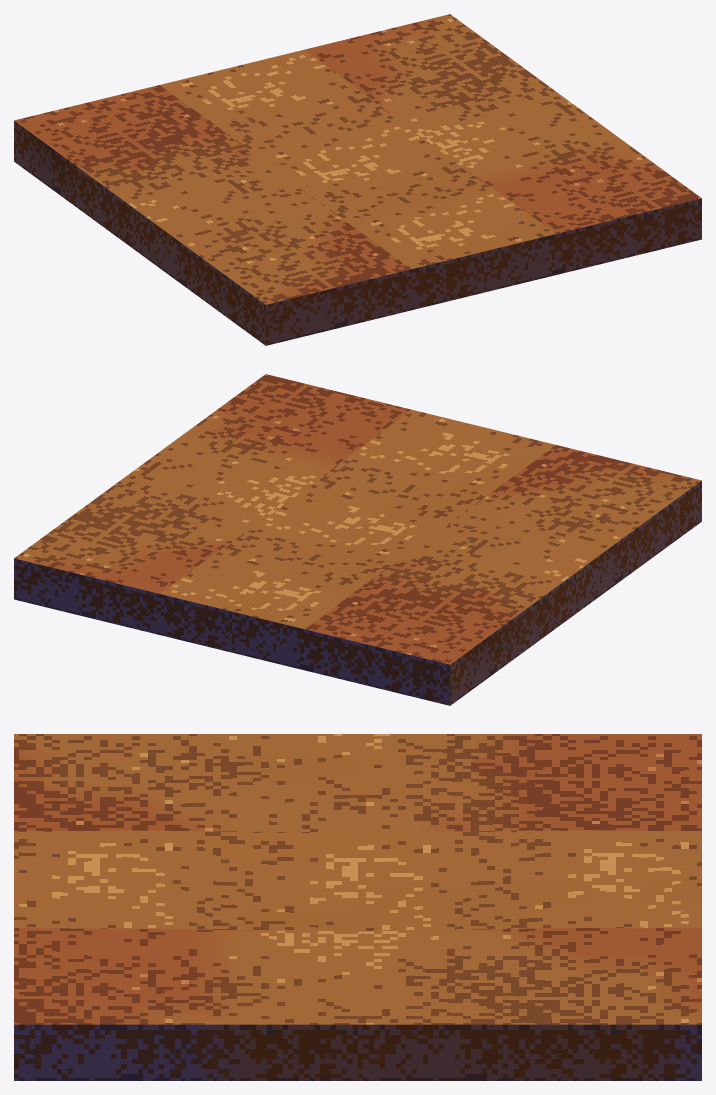
File: planet.trail.glb
3 views of the same model, one above another, from view 1: azimuth 30°, elevation 25°; view 2: azimuth 150°, elevation 25°; view 3: azimuth 270°, elevation 25° (orthographic). The views are drawn at different scales.
Visible parts, largest first — view 1: kit_ground; view 2: kit_ground; view 3: kit_ground.
Boxes of the visible parts, box(x1,y1,x2,y2) form: kit_ground: box(14, 14, 701, 345); kit_ground: box(14, 374, 701, 705); kit_ground: box(14, 734, 701, 1080).
Bounding box in the file's own units: 8 × 0.7715 × 8.
Materials: 3 (3 with a texture image).
